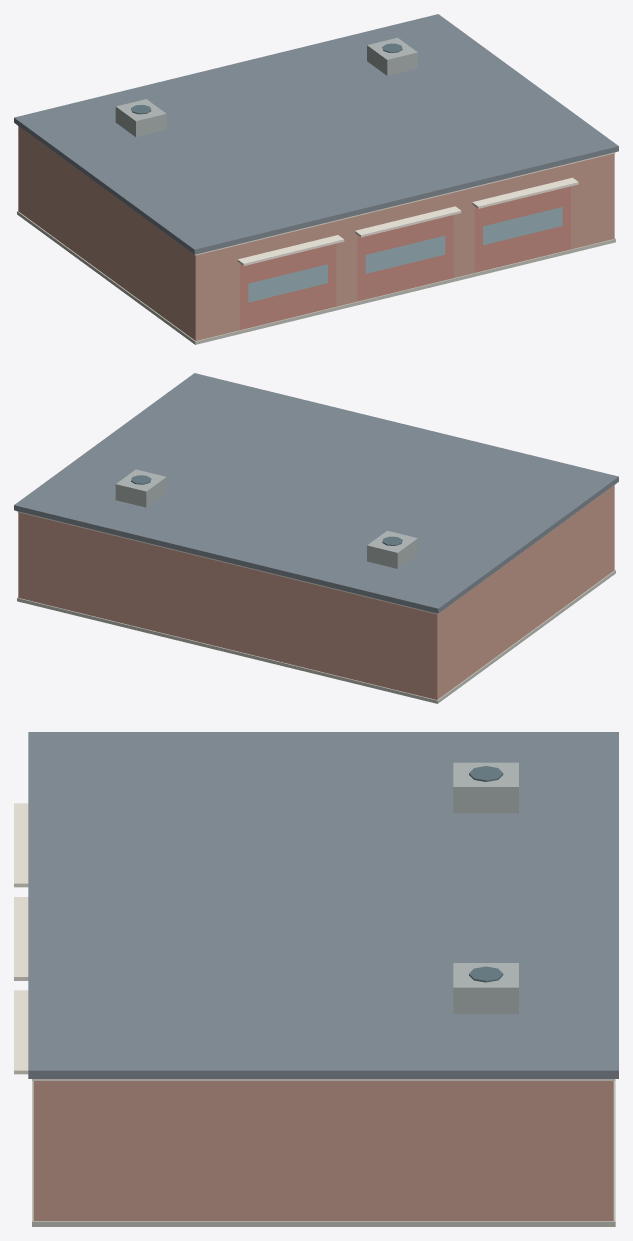
Rendered from civic-fire-station.glb.
The picture shows the model from 3 angles, top to bottom: view 1: azimuth 30°, elevation 25°; view 2: azimuth 150°, elevation 25°; view 3: azimuth 270°, elevation 25°; orthographic projection. The views are drawn at different scales.
Visible parts, largest first — view 1: civic-fire-station; view 2: civic-fire-station; view 3: civic-fire-station.
Boxes of the visible parts, bbox=[...] form: civic-fire-station: bbox=[14, 14, 618, 344]; civic-fire-station: bbox=[14, 373, 618, 703]; civic-fire-station: bbox=[14, 732, 618, 1226].
Bounding box in the file's own units: 30.4 × 7.77 × 22.95.
